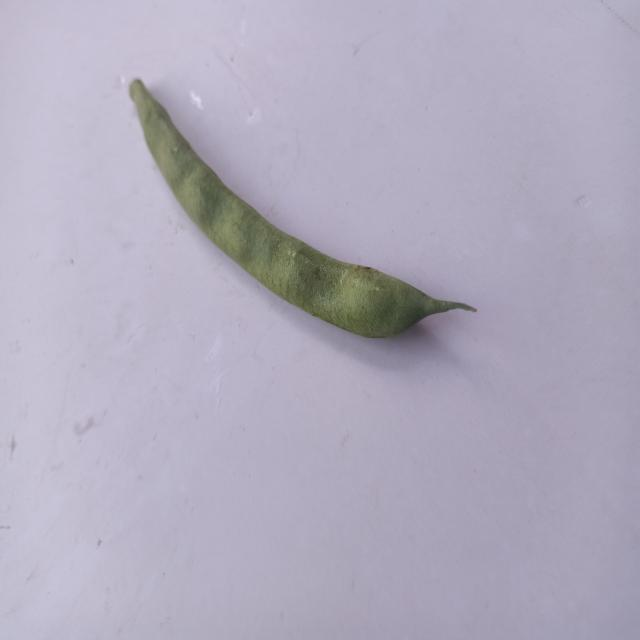Beans: (100, 48, 488, 396)
